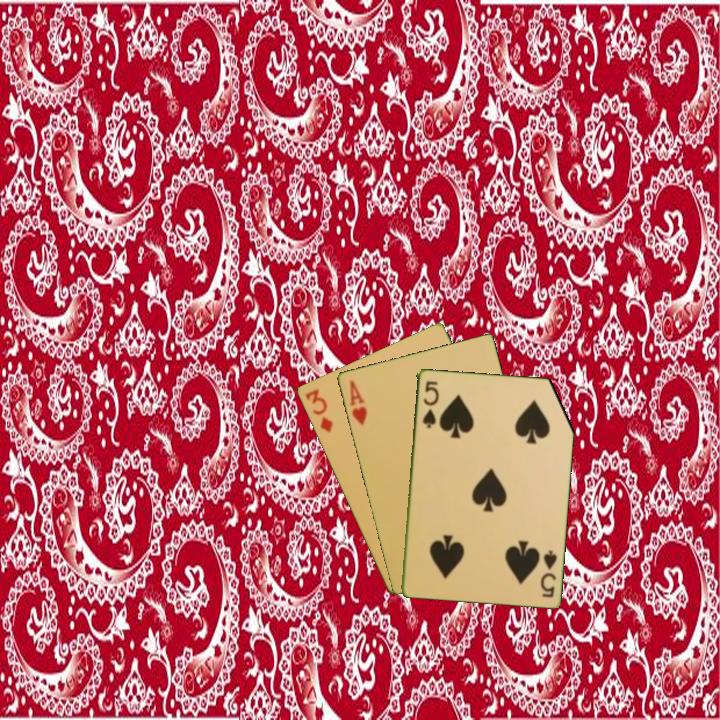3d: (301, 385, 336, 435)
5s: (537, 546, 560, 600), (419, 377, 441, 431)
Ah: (346, 376, 370, 428)
